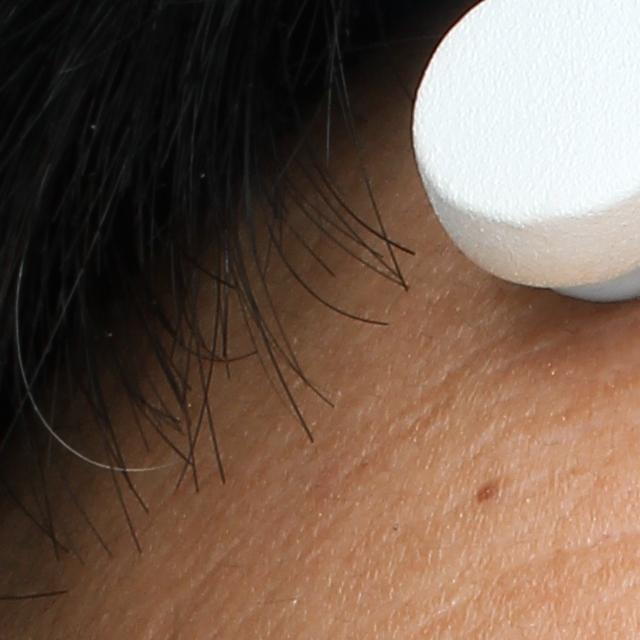nevus: (470, 476, 509, 506)
